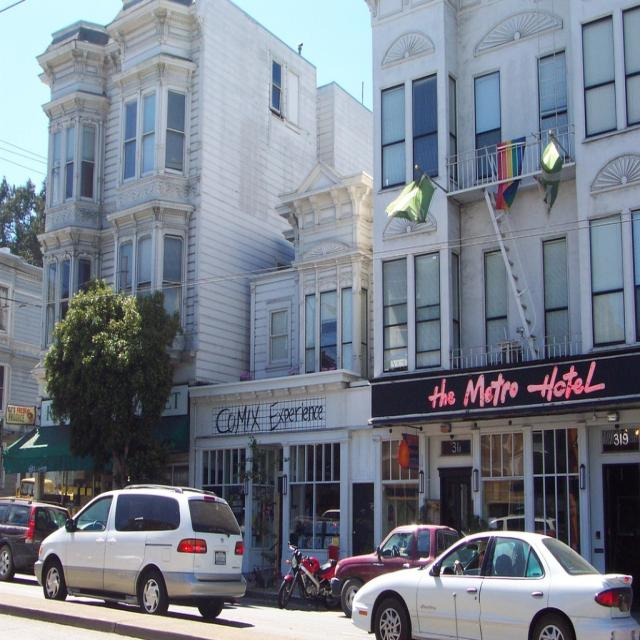car: (30, 480, 251, 617)
